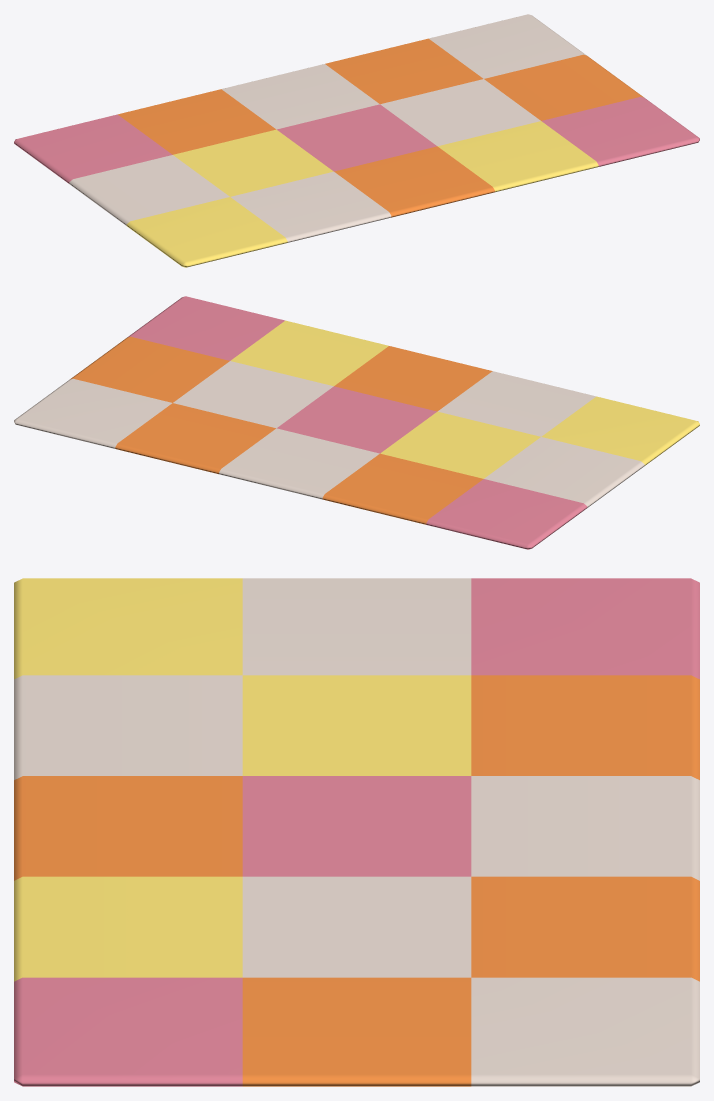
File: Carpet_1.glb
3 renders of one model, top to bottom at view 1: azimuth 30°, elevation 25°; view 2: azimuth 150°, elevation 25°; view 3: azimuth 270°, elevation 25°, orthographic. The views are drawn at different scales.
Parts seen in each view (by area): view 1: Carpet_16; view 2: Carpet_16; view 3: Carpet_16.
Part boxes in pixels (x1,y1,x2,y2): Carpet_16: [14, 14, 699, 267]; Carpet_16: [14, 296, 699, 549]; Carpet_16: [14, 578, 699, 1086].
Size of the model in its own units: 3.45 by 0.0387 by 1.98.
1 material, 1 textured.
